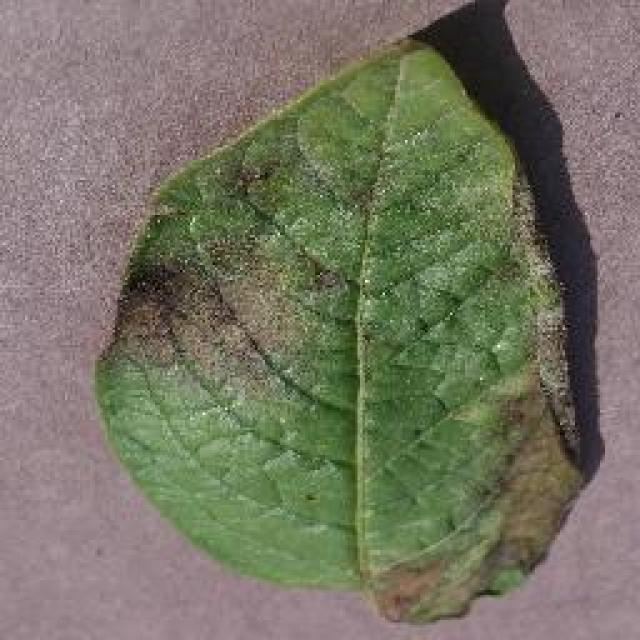late_blight: (87, 0, 595, 625)
